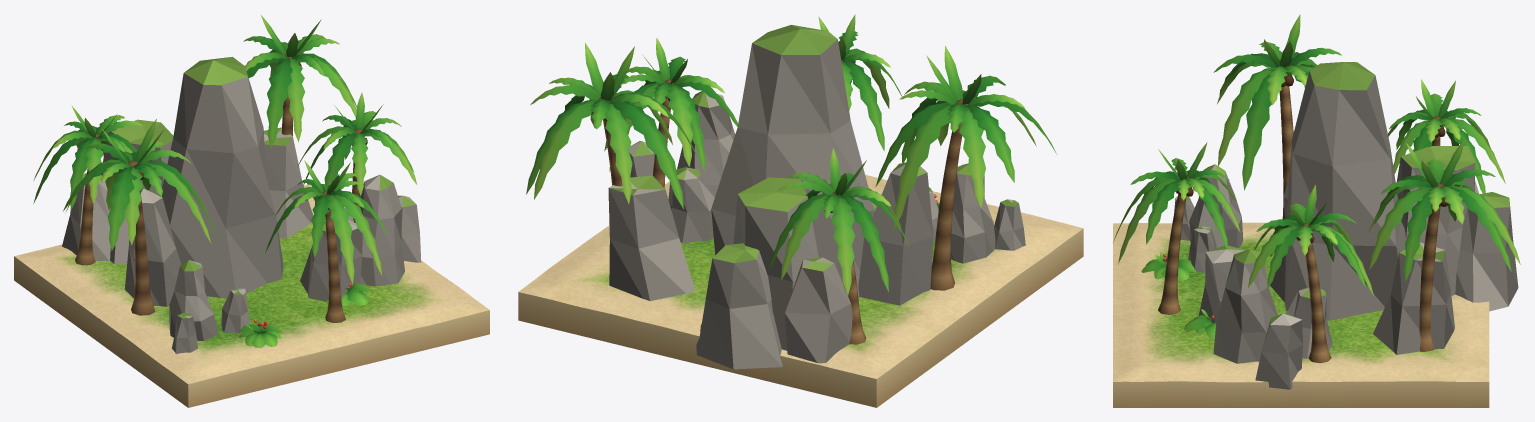
Rendered from Land_Mountain.obj.
The picture shows the model from 3 angles, left to right: view 1: azimuth 30°, elevation 25°; view 2: azimuth 150°, elevation 25°; view 3: azimuth 270°, elevation 25°; orthographic projection. The views are drawn at different scales.
Visible parts, largest first — view 1: Land_Mountain_Palette, Land_Mountain_Land_Mountain_Terrain; view 2: Land_Mountain_Palette, Land_Mountain_Land_Mountain_Terrain; view 3: Land_Mountain_Palette, Land_Mountain_Land_Mountain_Terrain.
Boxes of the visible parts, x1,y1,x2,y2 form: Land_Mountain_Palette: [14, 14, 489, 407]; Land_Mountain_Land_Mountain_Terrain: [14, 184, 489, 384]; Land_Mountain_Palette: [518, 14, 1083, 407]; Land_Mountain_Land_Mountain_Terrain: [518, 174, 1083, 378]; Land_Mountain_Palette: [1113, 14, 1520, 407]; Land_Mountain_Land_Mountain_Terrain: [1113, 222, 1489, 382].
Bounding box in the file's own units: 4.52 × 3.01 × 4.34.
2 materials, 2 textured.
